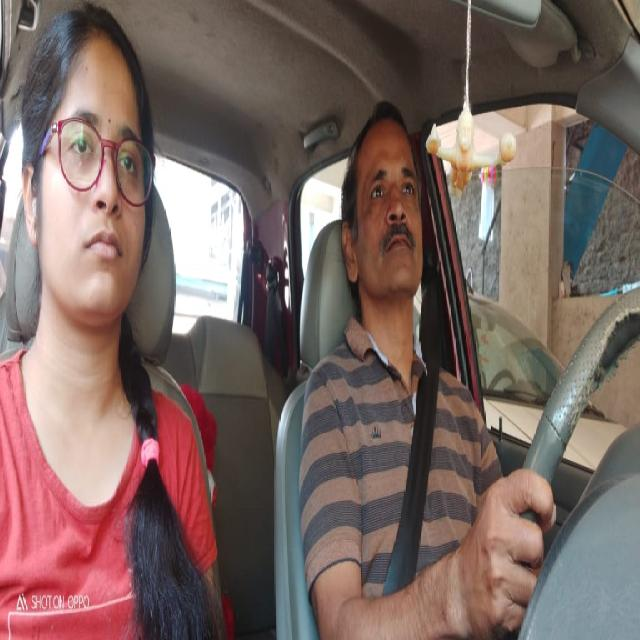person: (22, 35, 149, 318), (346, 120, 426, 298)
